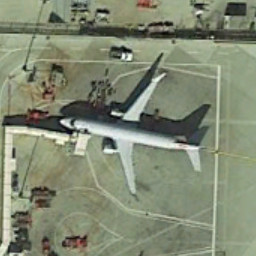Airplane: (57, 65, 213, 200)
